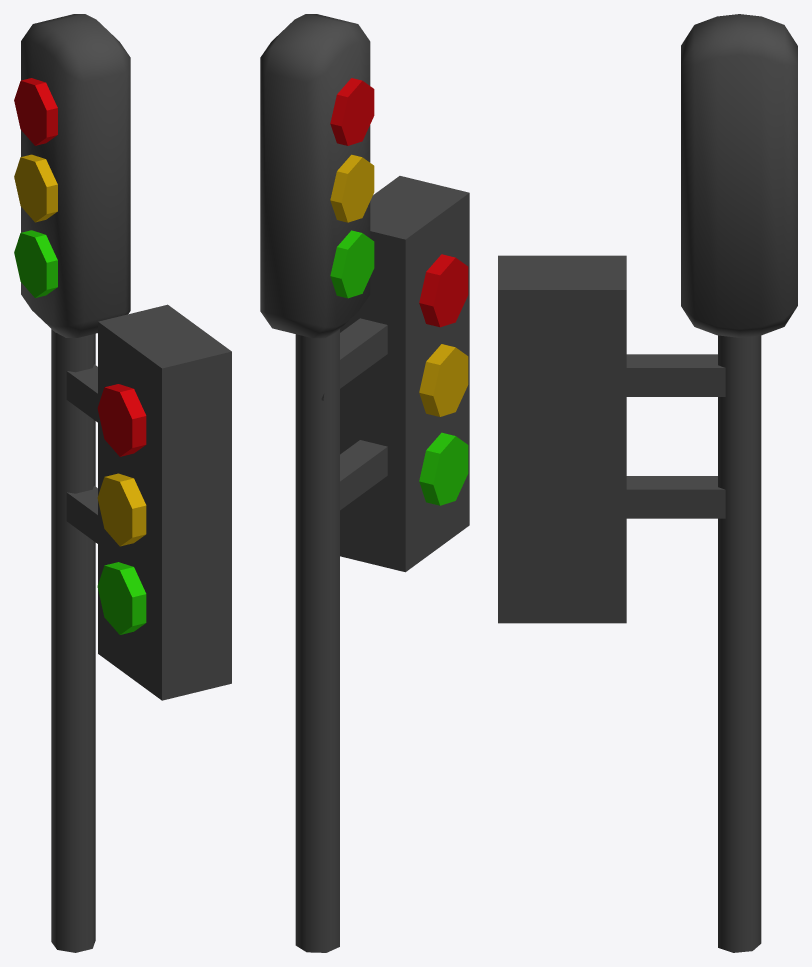
File: semaforo.fbx
3 views of the same model, side by side, from view 1: azimuth 30°, elevation 25°; view 2: azimuth 150°, elevation 25°; view 3: azimuth 270°, elevation 25° (orthographic).
Parts seen in each view (by area): view 1: Cylinder.003; view 2: Cylinder.003; view 3: Cylinder.003.
Boxes of the visible parts, left/top/right/bottom form: Cylinder.003: left=14, top=14, right=231, bottom=952; Cylinder.003: left=260, top=14, right=469, bottom=952; Cylinder.003: left=498, top=14, right=797, bottom=952.
Size of the model in its own units: 174 by 1815 by 536.
